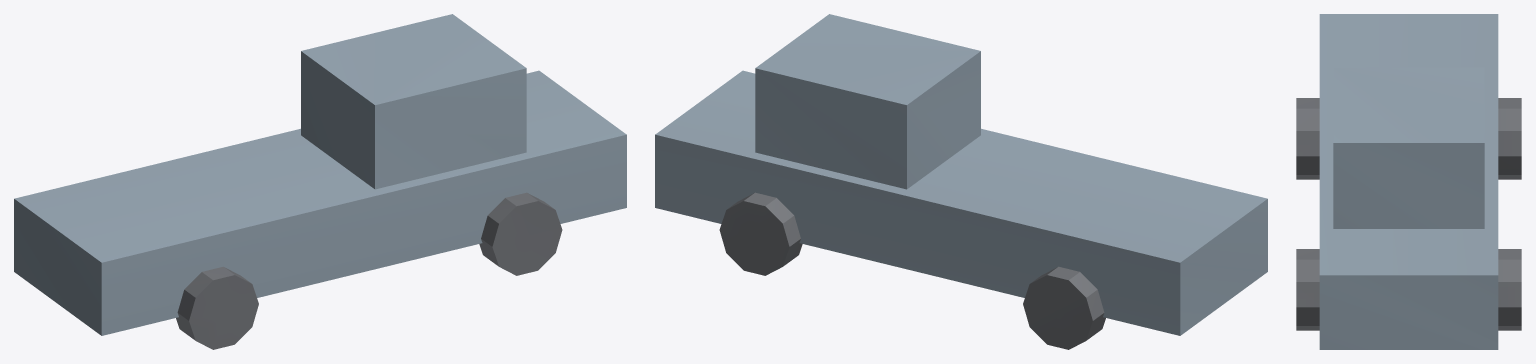
File: road_vehicle-06.glb
3 views of the same model, side by side, from view 1: azimuth 30°, elevation 25°; view 2: azimuth 150°, elevation 25°; view 3: azimuth 270°, elevation 25° (orthographic).
Parts seen in each view (by area): view 1: world; view 2: world; view 3: world.
Part boxes in pixels (x1=…): world: x1=14, y1=14, x2=626, y2=349; world: x1=655, y1=14, x2=1267, y2=349; world: x1=1296, y1=14, x2=1521, y2=349.
Bounding box in the file's own units: 2.25 × 0.7677 × 0.82.
